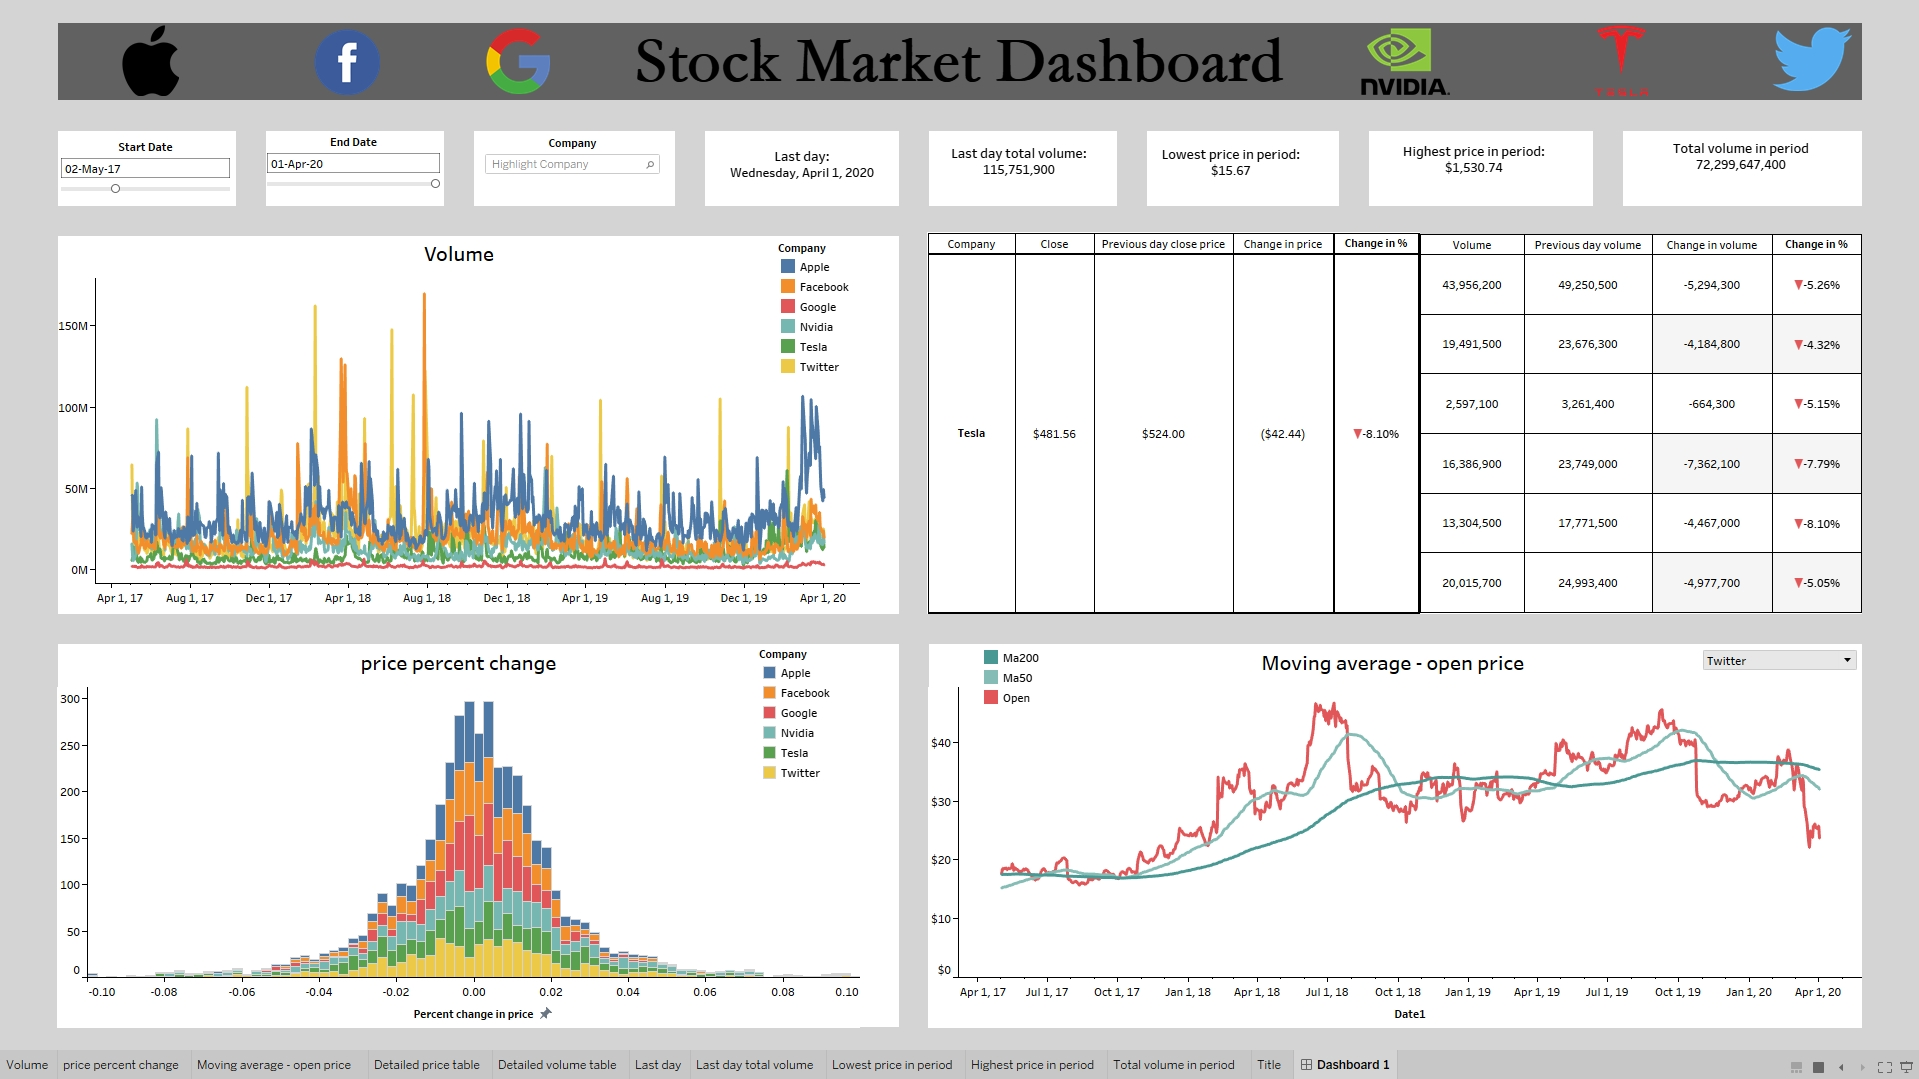

This screenshot's page, from the dashboard's own definition file:
{"tool":"tableau","page":{"name":"Dashboard 1","canvas":[1850,1050],"ordinal":0},"visuals":[{"type":"blank","box":[8,8,1834,107.5]},{"type":"worksheet","title":"Title ","mark":"Automatic","box":[22,10,1804,111]},{"type":"image","param":"C:/Users/Harshit/Documents/RESUME PROJECTS/STOCK MARKET/Twitter logo.png","box":[1737,24,80,71]},{"type":"image","param":"C:/Users/Harshit/Documents/RESUME PROJECTS/STOCK MARKET/Apple logo.png","box":[75,25,82,71]},{"type":"image","param":"C:/Users/Harshit/Documents/RESUME PROJECTS/STOCK MARKET/Tesla logo.png","box":[1540,25,92,71]},{"type":"image","param":"C:/Users/Harshit/Documents/RESUME PROJECTS/STOCK MARKET/Google logo.png","box":[441,28,84,66]},{"type":"image","param":"C:/Users/Harshit/Documents/RESUME PROJECTS/STOCK MARKET/Nvidia logo.png","box":[1320,28,101,67]},{"type":"image","param":"C:/Users/Harshit/Documents/RESUME PROJECTS/STOCK MARKET/Facebook logo.png","box":[268,29,89,66]},{"type":"blank","box":[8,115.5,208,105.5]},{"type":"blank","box":[216,115.5,208,105.5]},{"type":"blank","box":[424,115.5,231,105.5]},{"type":"blank","box":[655,115.5,224,105.5]},{"type":"blank","box":[879,115.5,218,105.5]},{"type":"blank","box":[1097,115.5,222,105.5]},{"type":"blank","box":[1319,115.5,254,105.5]},{"type":"blank","box":[1573,115.5,269,105.5]},{"type":"parameter","param":"[Parameters].[Parameter 2]","box":[229,134,179,90]},{"type":"highlighter","title":"Volume","param":"[federated.16bz8tj1r373en1493kkt0ef2sd1].[none:Table Name:nk]","box":[447,135,181,66]},{"type":"worksheet","title":"Total volume in period ","mark":"Automatic","box":[1626,138,199,60]},{"type":"parameter","param":"[Parameters].[Parameter 1]","box":[23,139,175,79]},{"type":"worksheet","title":"Highest price in period","mark":"Automatic","box":[1359,141,162,54]},{"type":"worksheet","title":"Last day total volume","mark":"Automatic","box":[904,143,171,46]},{"type":"worksheet","title":"Lowest price in period","mark":"Automatic","box":[1116,144,170,61]},{"type":"worksheet","title":"Last day","mark":"Automatic","box":[687,146,195,74]},{"type":"blank","box":[8,221,871,408]},{"type":"blank","box":[879,221,963,408]},{"type":"worksheet","title":"Detailed price table","mark":"Automatic","rows":["Table Name","Close","Previous day close price","Change in price"],"box":[892,232,493,382]},{"type":"worksheet","title":"Detailed volume table","mark":"Automatic","rows":["Table Name","Volume","Previous day volume","Change in volume"],"box":[1385,234,442,379]},{"type":"worksheet","title":"Volume","mark":"Automatic","rows":["Volume"],"cols":["Date"],"box":[23,235,802,378]},{"type":"legend","title":"Volume","param":"[federated.16bz8tj1r373en1493kkt0ef2sd1].[none:Table Name:nk]","box":[743,240,101,136]},{"type":"blank","box":[8,629,871,413]},{"type":"blank","box":[879,629,963,413]},{"type":"worksheet","title":"price percent change","mark":"Bar","rows":["Percent change in price"],"cols":["Percent change in price (bin)"],"box":[22,644,803,384]},{"type":"worksheet","title":"Moving average - open price ","mark":"Automatic","cols":["Date"],"box":[893,644,934,384]},{"type":"legend","title":"price percent change","param":"[federated.16bz8tj1r373en1493kkt0ef2sd1].[none:Table Name:nk]","box":[724,646,97,136]},{"type":"legend","title":"Moving average - open price ","param":"[federated.16bz8tj1r373en1493kkt0ef2sd1].[:Measure Names]","box":[946,647,140,76]},{"type":"filter","title":"Moving average - open price ","param":"[federated.16bz8tj1r373en1493kkt0ef2sd1].[none:Table Name:nk]","box":[1665,647,160,42]}]}

Visuals, with their boxes on the page's 1850x1050 design canvas (x1, y1, x2, y2). These are canvas units, not pixel positions in the 1919x1079 screenshot, which may show the page scaled, cropped or inside an application window:
blank: [8,8,1842,116]
"Title " worksheet: [22,10,1826,121]
image: [1737,24,1817,95]
image: [75,25,157,96]
image: [1540,25,1632,96]
image: [441,28,525,94]
image: [1320,28,1421,95]
image: [268,29,357,95]
blank: [8,116,216,221]
blank: [216,116,424,221]
blank: [424,116,655,221]
blank: [655,116,879,221]
blank: [879,116,1097,221]
blank: [1097,116,1319,221]
blank: [1319,116,1573,221]
blank: [1573,116,1842,221]
parameter: [229,134,408,224]
"Volume" highlighter: [447,135,628,201]
"Total volume in period " worksheet: [1626,138,1825,198]
parameter: [23,139,198,218]
"Highest price in period" worksheet: [1359,141,1521,195]
"Last day total volume" worksheet: [904,143,1075,189]
"Lowest price in period" worksheet: [1116,144,1286,205]
"Last day" worksheet: [687,146,882,220]
blank: [8,221,879,629]
blank: [879,221,1842,629]
"Detailed price table" worksheet: [892,232,1385,614]
"Detailed volume table" worksheet: [1385,234,1827,613]
"Volume" worksheet: [23,235,825,613]
"Volume" legend: [743,240,844,376]
blank: [8,629,879,1042]
blank: [879,629,1842,1042]
"price percent change" worksheet (Bar marks): [22,644,825,1028]
"Moving average - open price " worksheet: [893,644,1827,1028]
"price percent change" legend: [724,646,821,782]
"Moving average - open price " legend: [946,647,1086,723]
"Moving average - open price " filter: [1665,647,1825,689]
